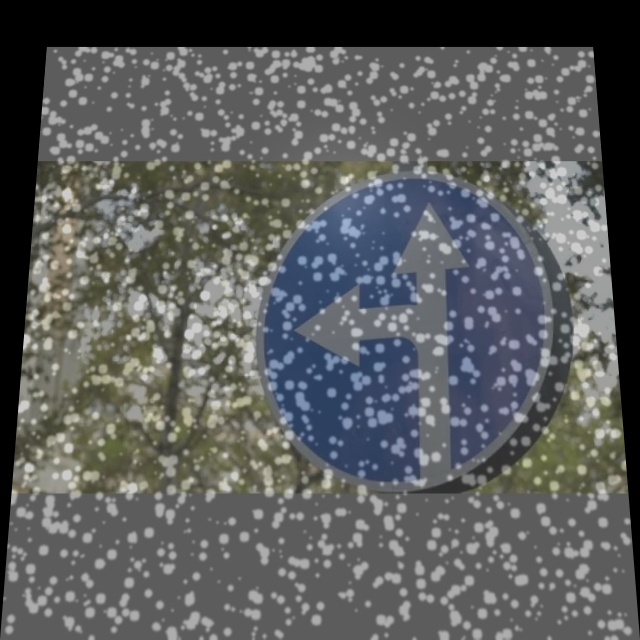Compulsory_Ahead_or_Turn_Left: (256, 173, 583, 483)
